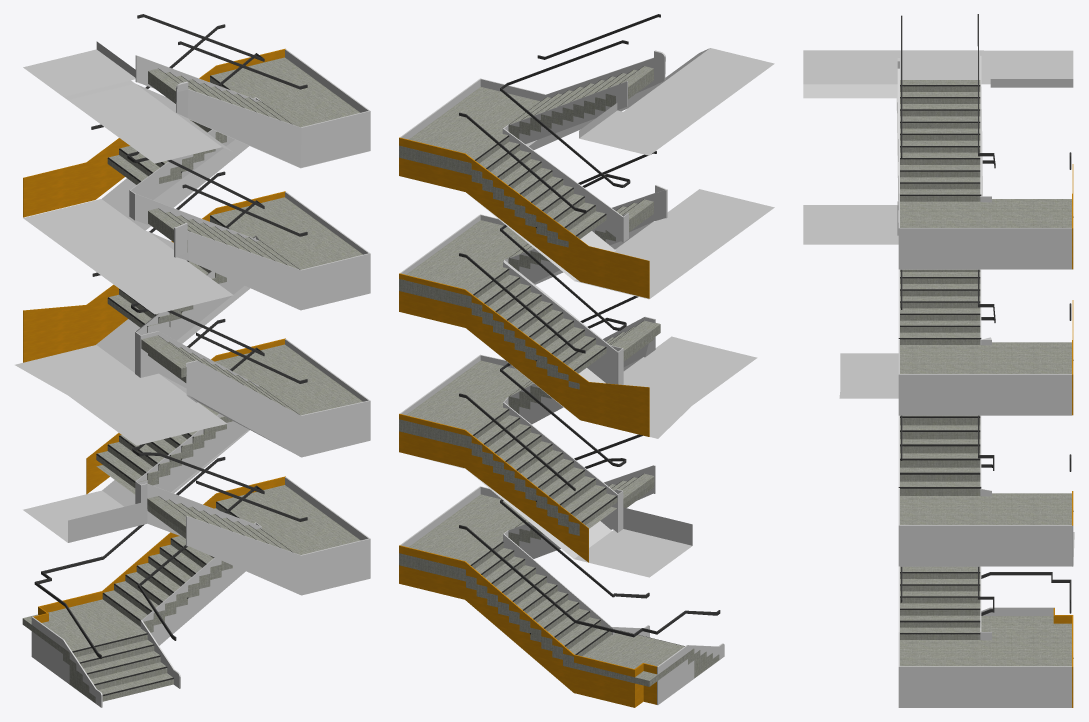
File: all_stair_2_sized.glb
The picture shows the model from 3 angles, left to right: view 1: azimuth 30°, elevation 25°; view 2: azimuth 150°, elevation 25°; view 3: azimuth 270°, elevation 25°; orthographic projection. The views are drawn at different scales.
Visible parts, largest first — view 1: Cube_009, Cube_004; view 2: Cube_009, Cube_004; view 3: Cube_009, Cube_004.
Part boxes in pixels (x1,y1,x2,y2): Cube_009: [15, 14, 370, 707]; Cube_004: [22, 57, 362, 702]; Cube_009: [399, 14, 774, 707]; Cube_004: [399, 66, 719, 686]; Cube_009: [803, 14, 1074, 707]; Cube_004: [898, 80, 1073, 666].
Size of the model in its own units: 6.99 by 16.05 by 5.91.
6 materials, 2 textured.
